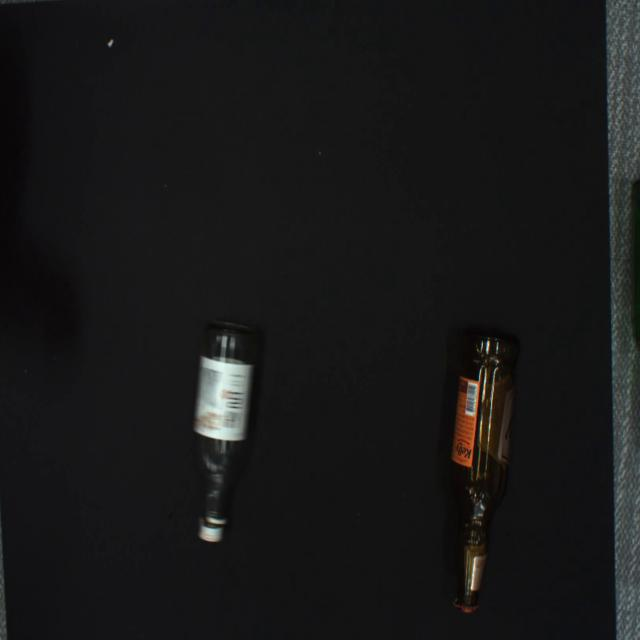beer-bottle: (449, 328, 519, 614)
soju-bottle: (192, 322, 258, 544)
